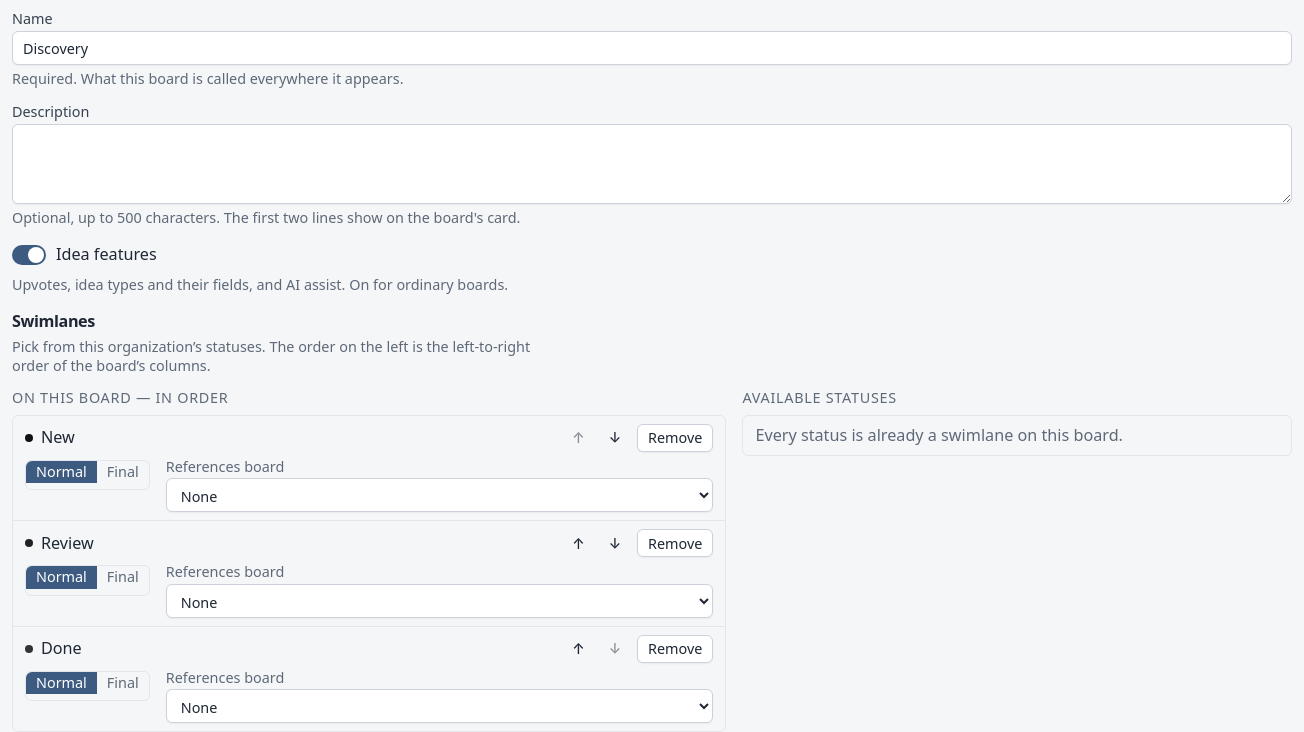
Test case: the References selector › offers None first and posts the chosen board, showing its key prefix as a RefPill
Select "Implementation" in the dropdown labelled "References board" below "New" at [440, 495], box [166, 478, 713, 512]
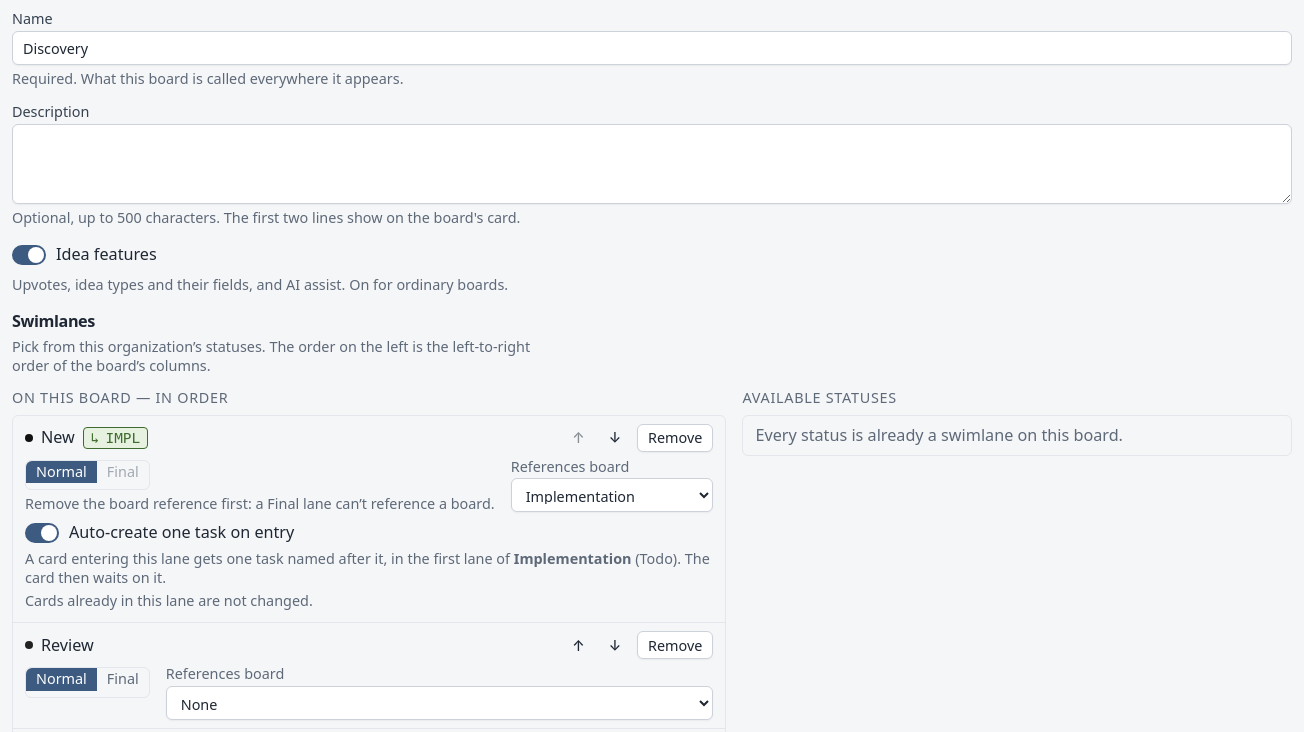
Result: the text "IMPL" reads "↳ IMPL" at [83, 427, 148, 449]
